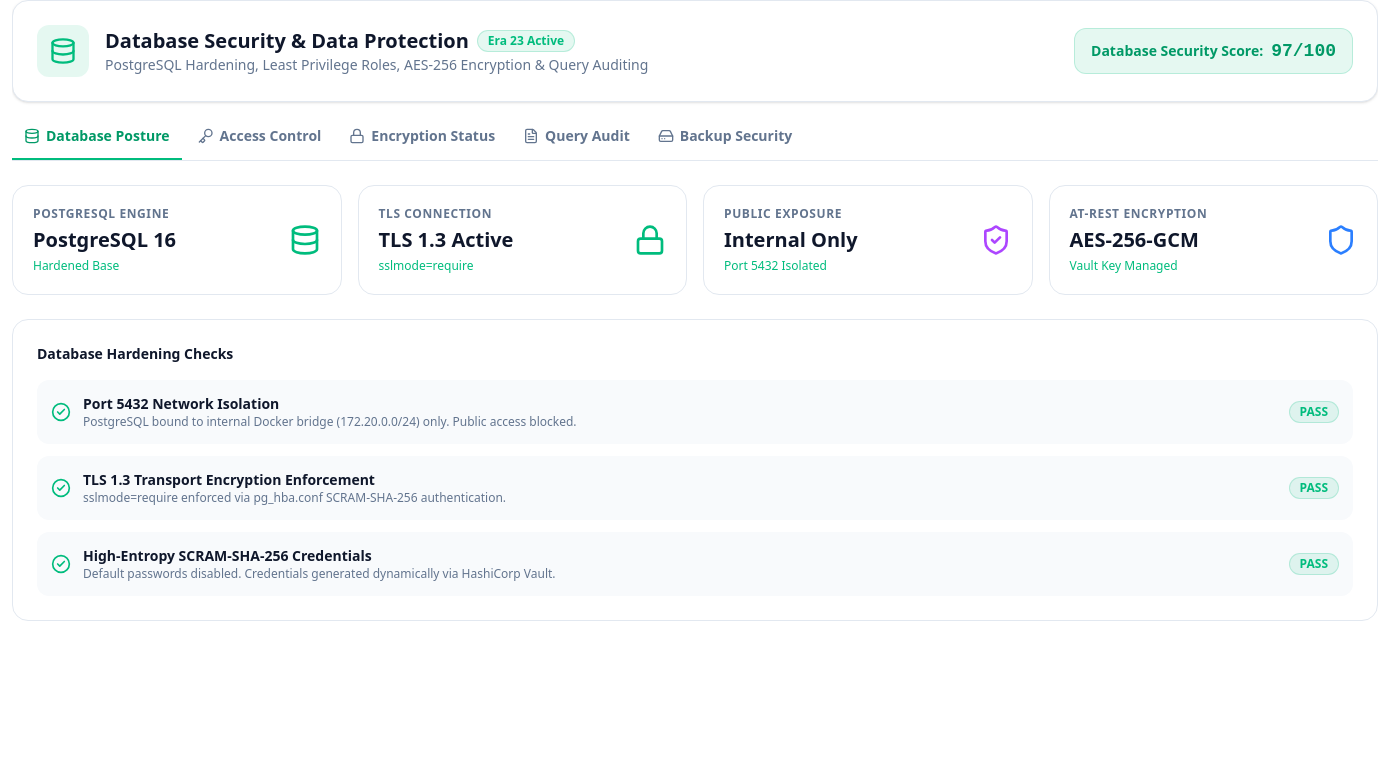
it: DatabaseSecurityDashboard › clicking Access Control tab shows roles and classified data fields
Click the button "Access Control".
click(260, 143)  # box [186, 126, 333, 160]
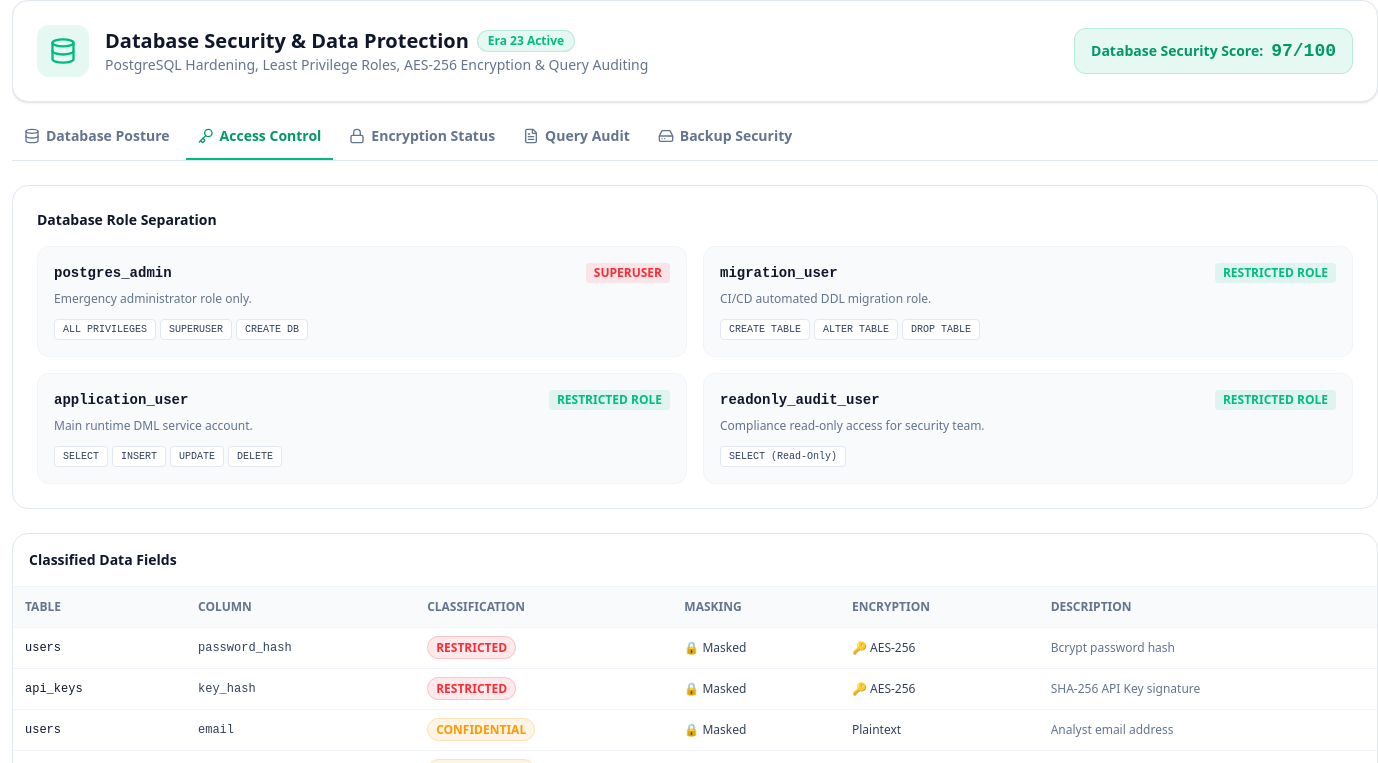
Check: the text "application_user" is shown, box [54, 390, 188, 410]
Check: the text "readonly_audit_user" is shown, box [720, 390, 880, 410]
Check: the text "password_hash" is shown, box [186, 628, 415, 668]
